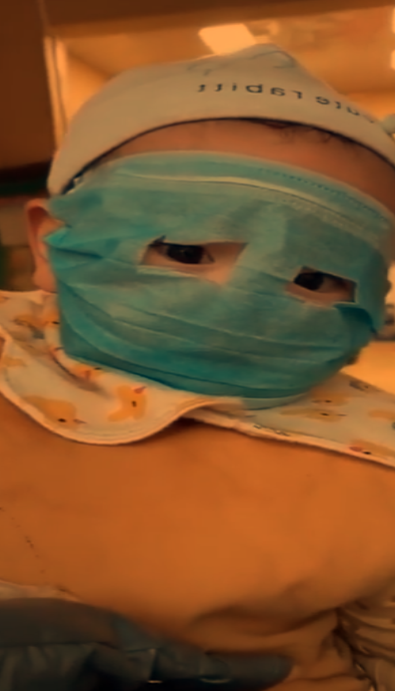mask_weared_incorrect: (20, 47, 395, 402)
